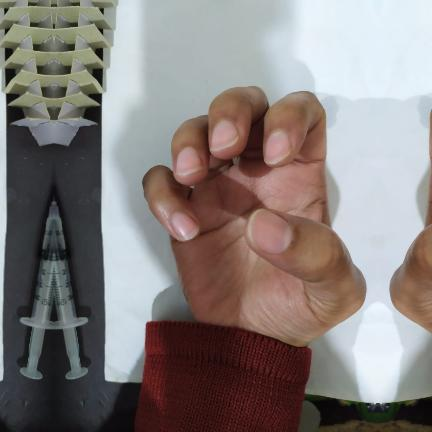Nail: (248, 208, 294, 253), (265, 130, 291, 164), (210, 121, 239, 151), (171, 213, 200, 241), (176, 148, 202, 176)
